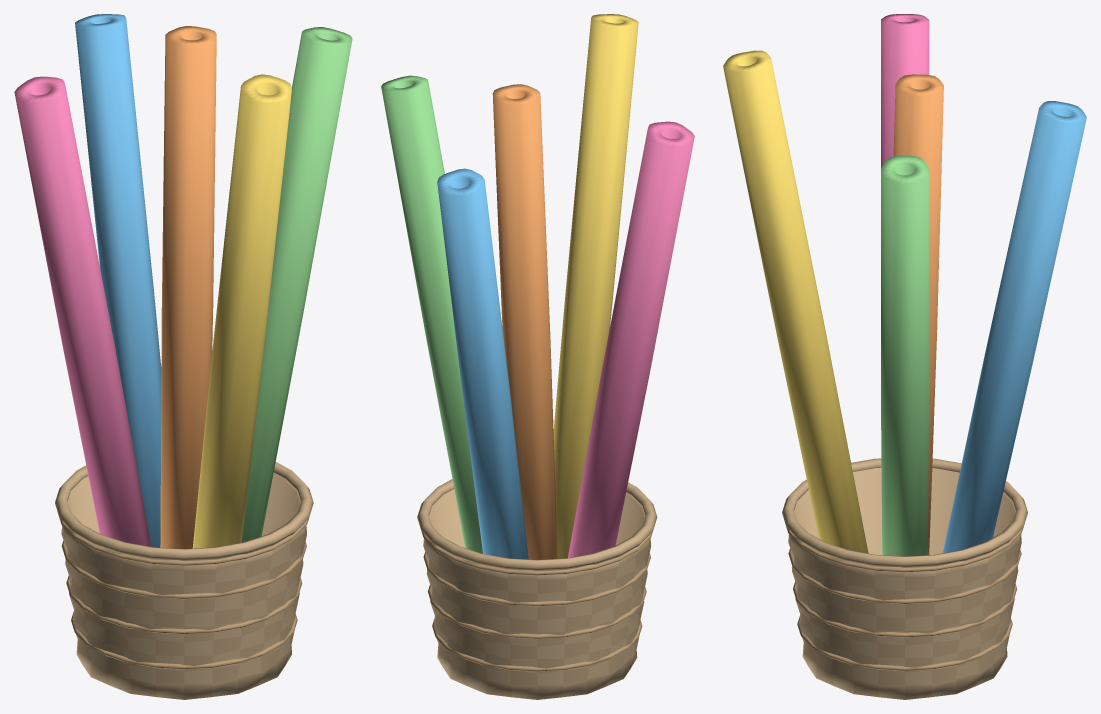
File: noodles.glb
The picture shows the model from 3 angles, left to right: view 1: azimuth 30°, elevation 25°; view 2: azimuth 150°, elevation 25°; view 3: azimuth 270°, elevation 25°; orthographic projection. The views are drawn at different scales.
Parts seen in each view (by area): view 1: Basket | alternating wicker weave, Noodle | noodle orange, Noodle | noodle pink, Noodle | noodle yellow, Noodle | noodle blue, Noodle | noodle green, Basket | rolled rim, Basket | woven binding.002, Basket | woven binding.001, Basket | woven binding, Basket | woven binding.003; view 2: Basket | alternating wicker weave, Noodle | noodle yellow, Noodle | noodle pink, Noodle | noodle orange, Noodle | noodle blue, Noodle | noodle green, Basket | rolled rim, Basket | woven binding.002, Basket | woven binding.001, Basket | woven binding, Basket | woven binding.003; view 3: Basket | alternating wicker weave, Noodle | noodle yellow, Noodle | noodle blue, Noodle | noodle green, Noodle | noodle orange, Basket | rolled rim, Noodle | noodle pink, Basket | woven binding.002, Basket | woven binding.001, Basket | woven binding, Basket | woven binding.003.
Boxes of the visible parts, box(x1,y1,x2,y2) form: Basket | alternating wicker weave: box(61, 472, 306, 699); Noodle | noodle orange: box(160, 26, 216, 548); Noodle | noodle pink: box(14, 76, 151, 546); Noodle | noodle yellow: box(192, 74, 291, 548); Noodle | noodle blue: box(75, 14, 161, 547); Noodle | noodle green: box(241, 27, 352, 542); Basket | rolled rim: box(55, 462, 313, 561); Basket | woven binding.002: box(61, 540, 306, 599); Basket | woven binding.001: box(66, 575, 302, 634); Basket | woven binding: box(71, 612, 297, 669); Basket | woven binding.003: box(59, 517, 309, 565); Basket | alternating wicker weave: box(423, 489, 651, 699); Noodle | noodle yellow: box(553, 14, 638, 558); Noodle | noodle pink: box(568, 121, 694, 557); Noodle | noodle orange: box(492, 84, 557, 559); Noodle | noodle blue: box(437, 168, 528, 559); Noodle | noodle green: box(381, 75, 482, 553); Basket | rolled rim: box(417, 479, 657, 571); Basket | woven binding.002: box(423, 552, 650, 606); Basket | woven binding.001: box(427, 584, 646, 639); Basket | woven binding: box(432, 618, 642, 671); Basket | woven binding.003: box(421, 531, 652, 575); Basket | alternating wicker weave: box(788, 467, 1021, 699); Noodle | noodle yellow: box(723, 50, 868, 553); Noodle | noodle blue: box(943, 101, 1086, 553); Noodle | noodle green: box(881, 155, 929, 556); Noodle | noodle orange: box(893, 74, 943, 555); Basket | rolled rim: box(782, 458, 1027, 568); Noodle | noodle pink: box(881, 14, 929, 168); Basket | woven binding.002: box(788, 548, 1021, 604); Basket | woven binding.001: box(793, 581, 1016, 637); Basket | woven binding: box(797, 616, 1012, 670); Basket | woven binding.003: box(786, 526, 1023, 572).
Bounding box in the file's own units: 0.3452 × 0.6281 × 0.3452.
